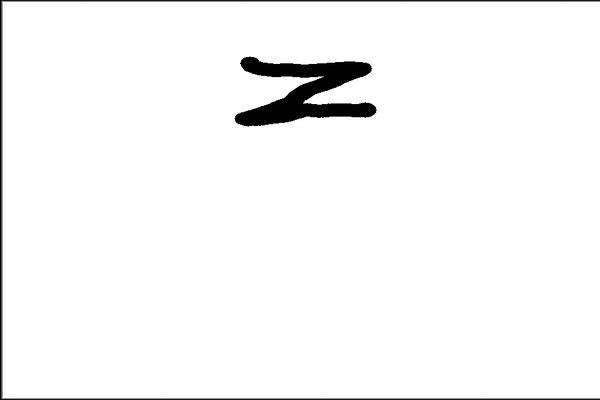Z: (228, 48, 384, 132)
